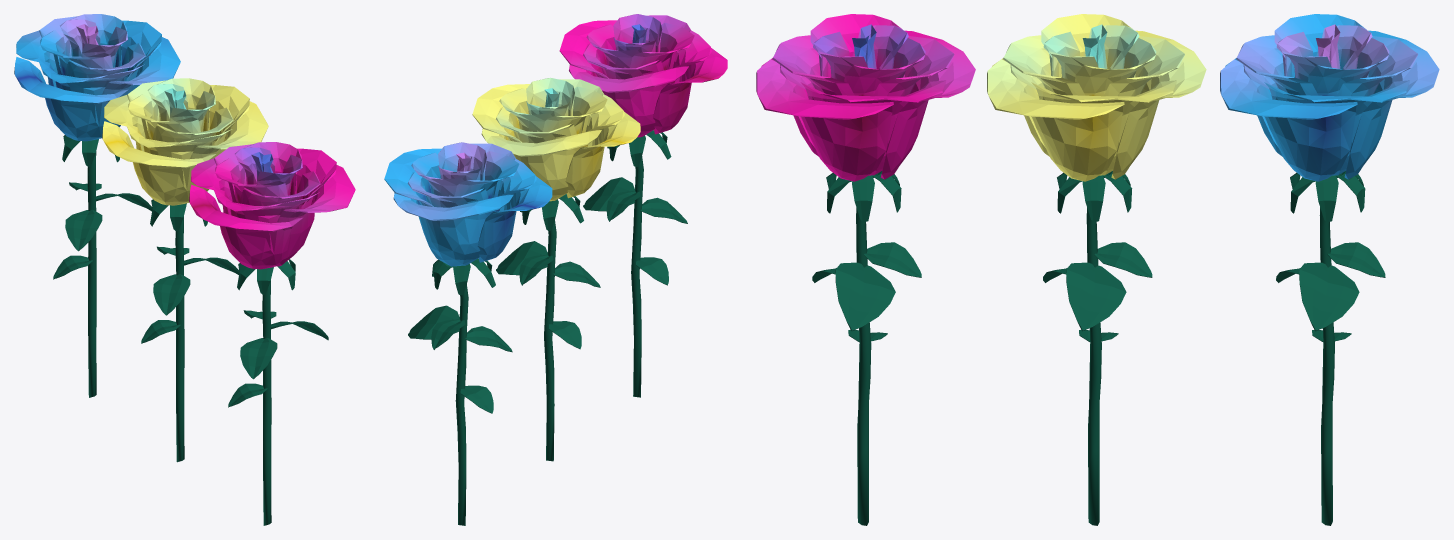
The model's file is rose model.fbx.
3 renders of one model, left to right at view 1: azimuth 30°, elevation 25°; view 2: azimuth 150°, elevation 25°; view 3: azimuth 270°, elevation 25°, orthographic. The views are drawn at different scales.
Visible parts, largest first — view 1: Subdivision_Surface_1, Subdivision_Surface, Subdivision_Surface_2, polar_1, polar_2, polar, Plane_2, Plane_2_6, Plane_2_3, Plane_3, Plane_3_3, Plane_3_5; view 2: Subdivision_Surface, Subdivision_Surface_2, Subdivision_Surface_1, polar_2, polar_1, polar, Plane_1, Plane_1_3, Plane_1_5, Plane_2, Plane_2_3, Plane_2_6 (+6 smaller); view 3: Subdivision_Surface_1, Subdivision_Surface_2, Subdivision_Surface, polar_2, polar_1, polar, Plane_1, Plane_1_3, Plane_1_5, Plane_2_4, Plane, Plane_3_6.
Boxes of the visible parts, box(x1,y1,x2,y2) form: Subdivision_Surface_1: box(189, 142, 355, 269); Subdivision_Surface: box(14, 14, 180, 141); Subdivision_Surface_2: box(102, 78, 268, 205); polar_1: box(262, 280, 271, 525); polar_2: box(175, 217, 184, 462); polar: box(87, 151, 96, 397); Plane_2: box(65, 210, 102, 251); Plane_2_6: box(153, 274, 190, 315); Plane_2_3: box(240, 338, 277, 379); Plane_3: box(53, 255, 92, 279); Plane_3_3: box(228, 383, 267, 407); Plane_3_5: box(141, 320, 180, 343); Subdivision_Surface: box(384, 142, 552, 266); Subdivision_Surface_2: box(472, 78, 640, 201); Subdivision_Surface_1: box(559, 14, 727, 137); polar_2: box(544, 220, 556, 461); polar_1: box(631, 156, 643, 397); polar: box(455, 284, 468, 525); Plane_1: box(408, 305, 459, 339); Plane_1_3: box(583, 177, 635, 211); Plane_1_5: box(496, 241, 548, 275); Plane_2: box(465, 326, 512, 352); Plane_2_3: box(640, 197, 687, 223); Plane_2_6: box(553, 261, 600, 287); Subdivision_Surface_1: box(756, 14, 975, 181); Subdivision_Surface_2: box(987, 14, 1206, 181); Subdivision_Surface: box(1220, 14, 1439, 181); polar_2: box(1086, 207, 1101, 525); polar_1: box(856, 207, 871, 525); polar: box(1319, 207, 1334, 525); Plane_1: box(1299, 262, 1359, 331); Plane_1_3: box(835, 262, 895, 330); Plane_1_5: box(1066, 262, 1126, 331); Plane_2_4: box(863, 242, 921, 277); Plane: box(1327, 242, 1385, 277); Plane_3_6: box(1094, 242, 1152, 277).
Bounding box in the file's own units: 246 × 587 × 739.
Materials: 4 (3 with a texture image).
